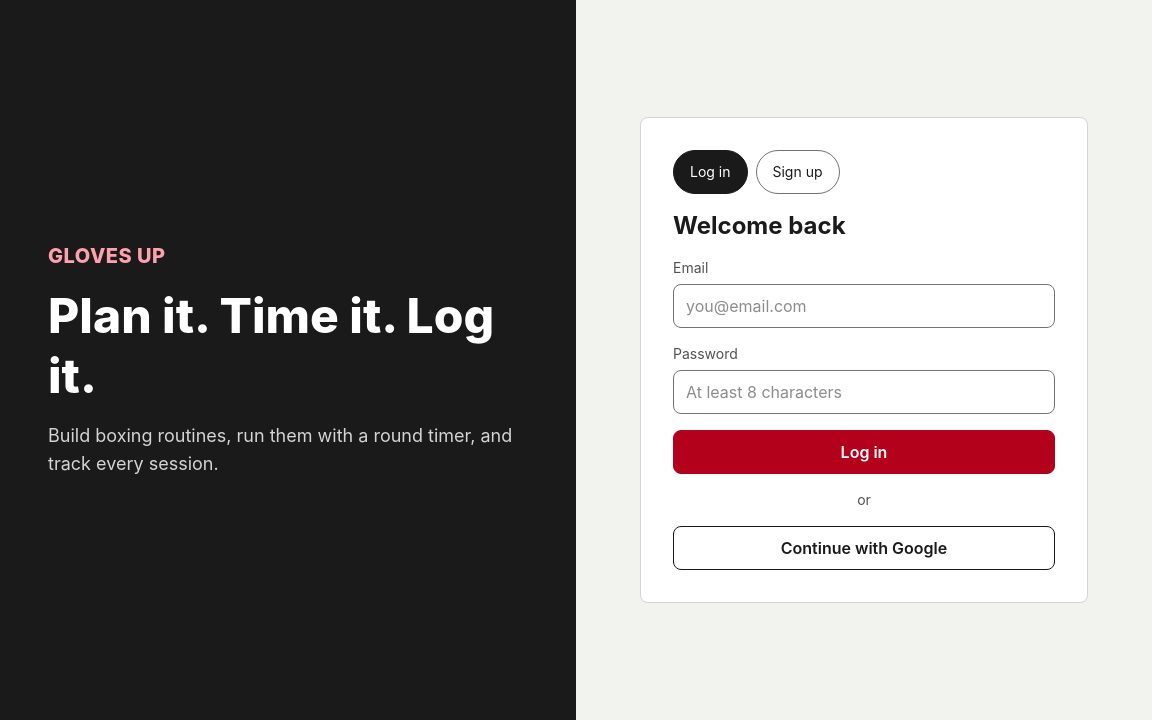
Test: Login page › shows a friendly error when logging in fails
Type "me@example.com" into the field labelled "Email" at [864, 306], box x1=673 y1=284 x2=1055 y2=328
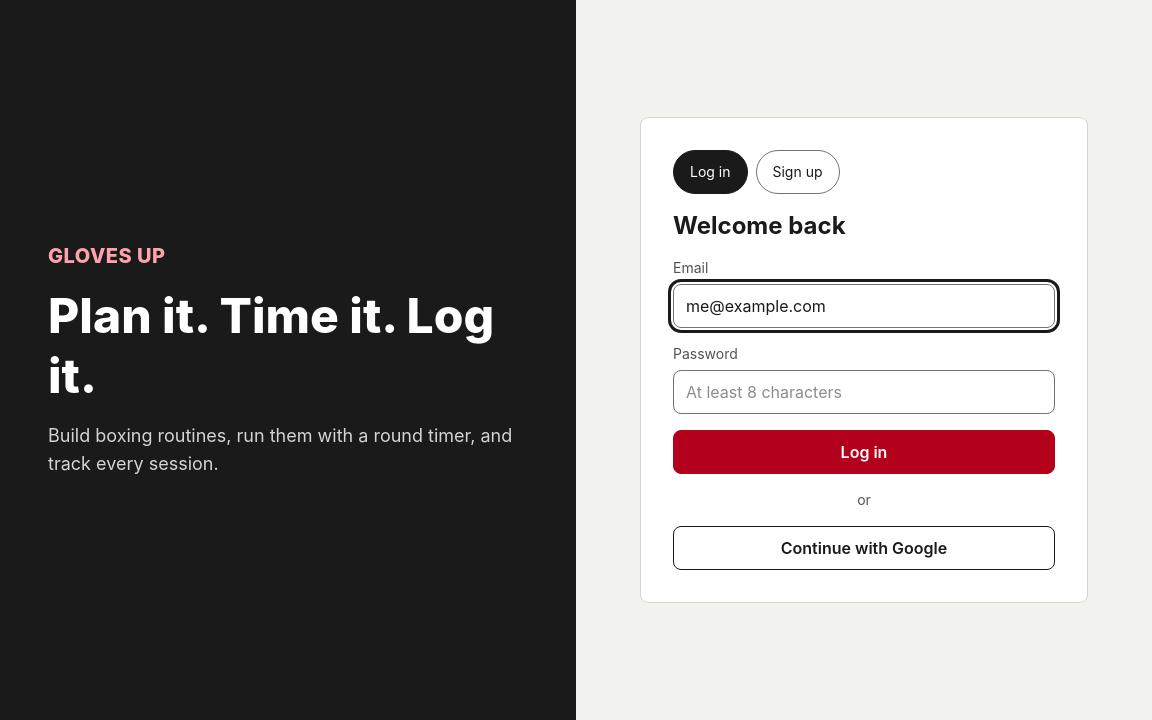
Type "secret123" into the password field labelled "Password" at [864, 392], box x1=673 y1=370 x2=1055 y2=414
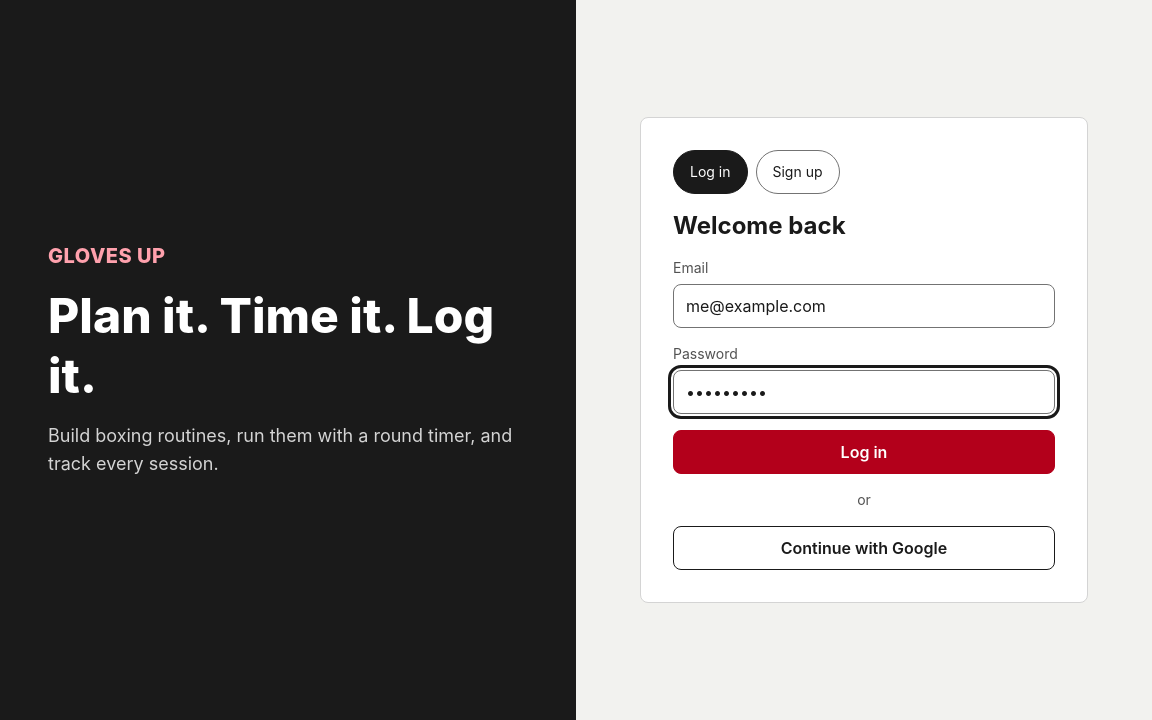
Click the button "Log in" below "Password" at [864, 452], box x1=673 y1=430 x2=1055 y2=474
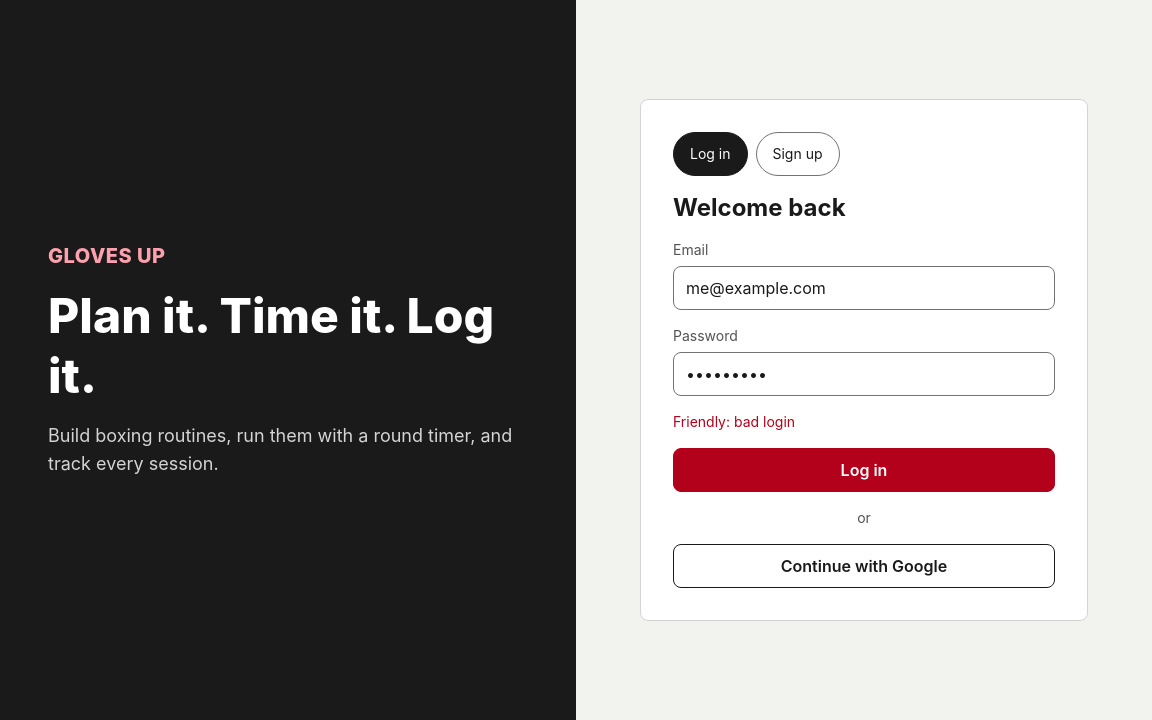
expect the text "Friendly: bad login" is shown: met, box x1=673 y1=413 x2=795 y2=430
